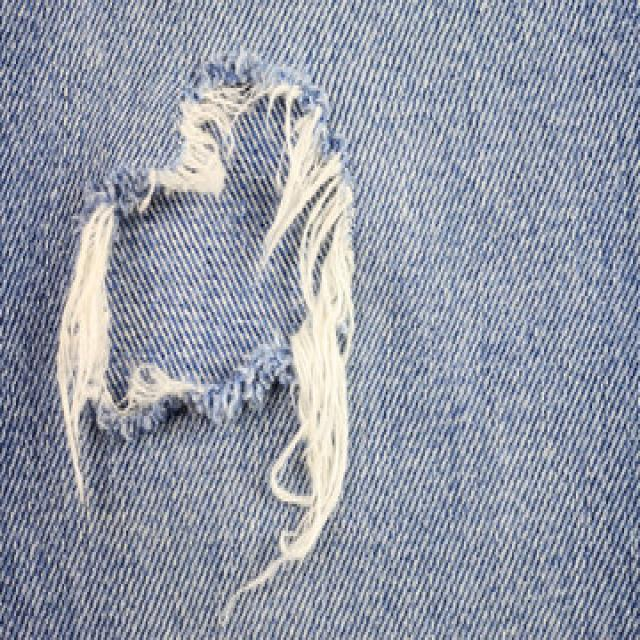Hole: (57, 55, 355, 592)
